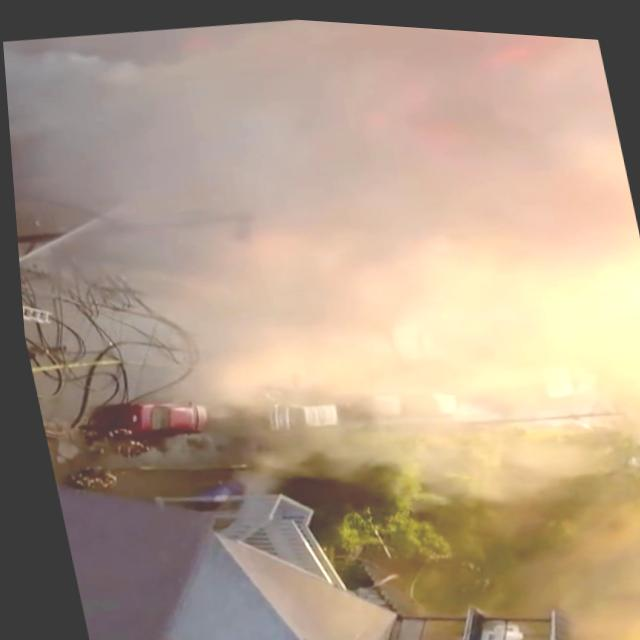smoke: (186, 10, 640, 350)
